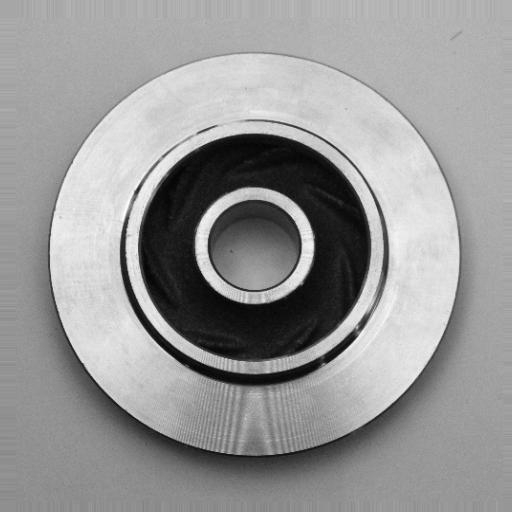polished_casting: (43, 48, 467, 467)
